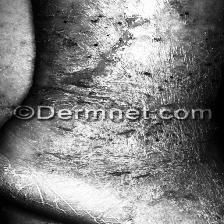Non-Cancerous Skin Condition: (49, 123, 224, 224), (61, 0, 224, 96)
